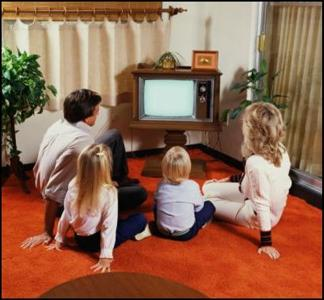person: (202, 101, 291, 263)
